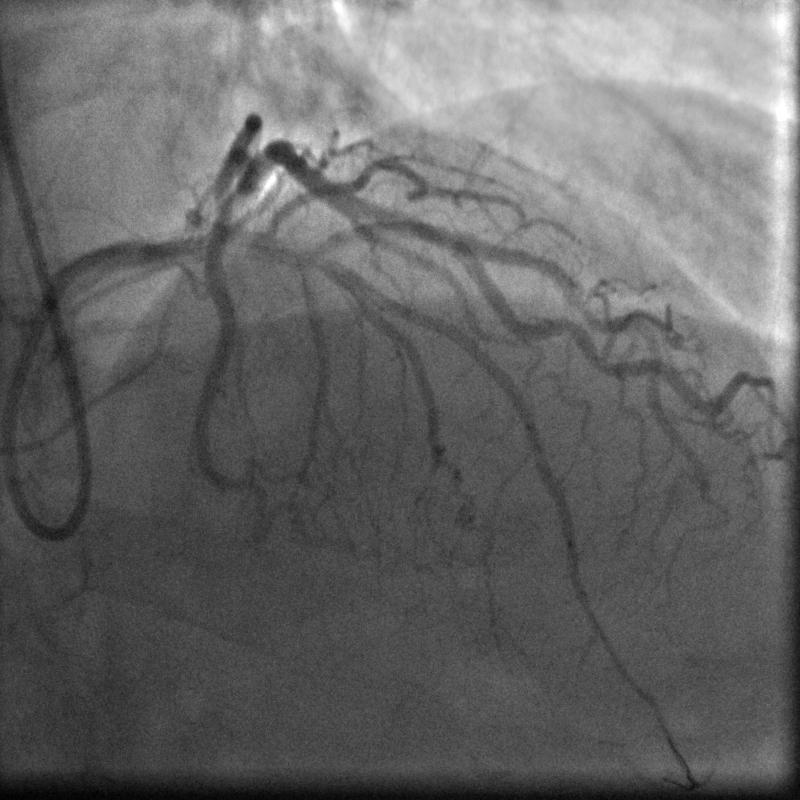Stenosis: (421, 212, 454, 252)
